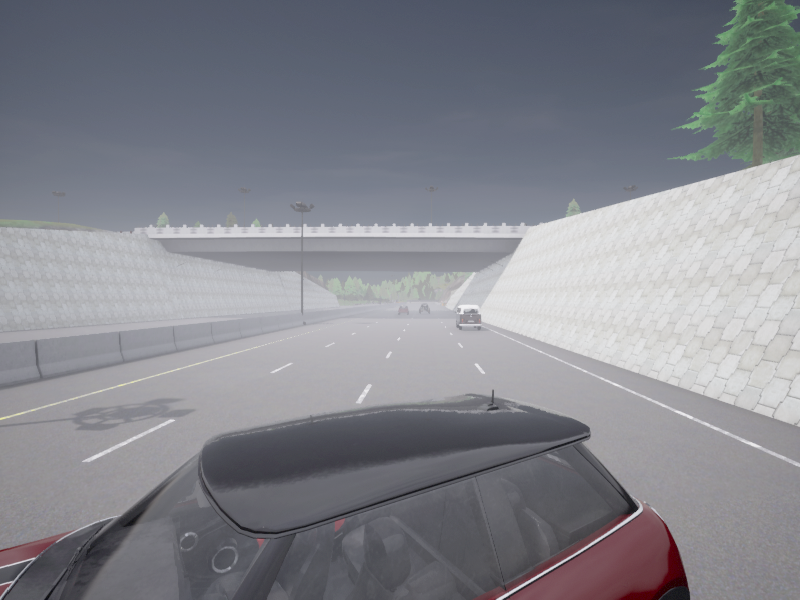vehicle: (0, 389, 689, 599), (454, 305, 481, 329), (398, 305, 408, 314), (419, 304, 429, 313)
